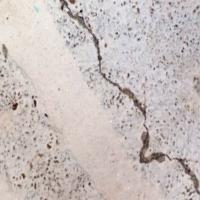crack: (68, 9, 199, 190)
